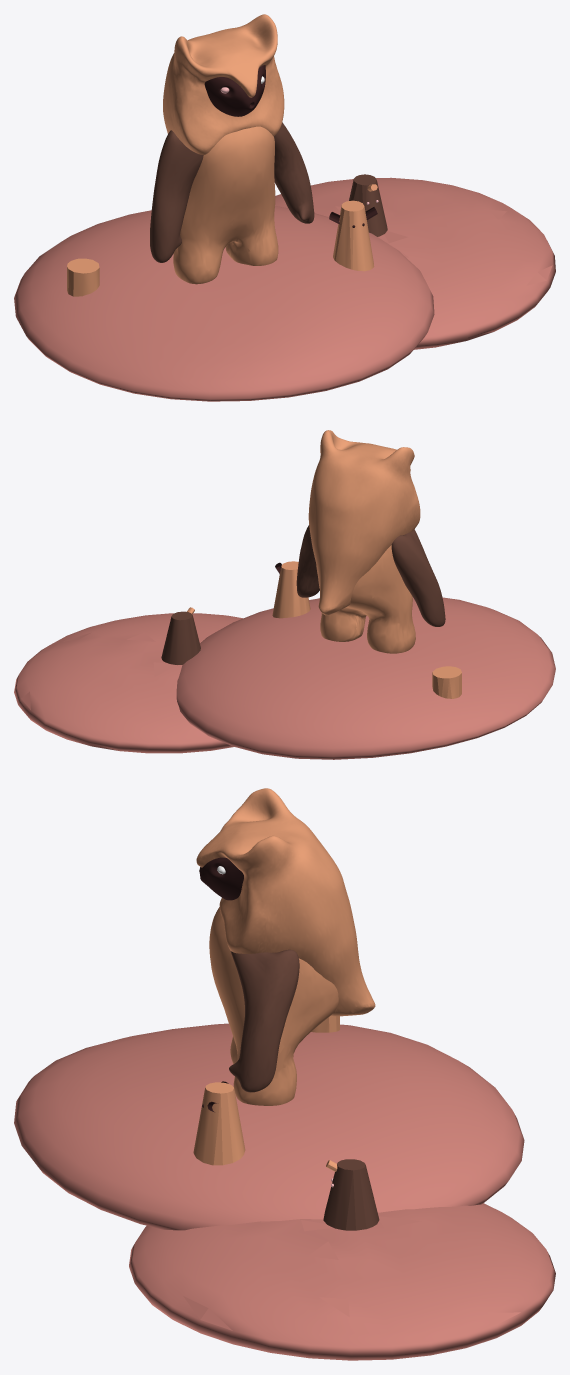
The model's file is asset.glb.
3 renders of one model, top to bottom at view 1: azimuth 30°, elevation 25°; view 2: azimuth 150°, elevation 25°; view 3: azimuth 270°, elevation 25°, orthographic. The views are drawn at different scales.
Visible parts, largest first — view 1: 圓柱體; view 2: 圓柱體; view 3: 圓柱體.
Boxes of the visible parts, <box> form: 圓柱體: <box>14,14,555,401</box>; 圓柱體: <box>14,430,555,759</box>; 圓柱體: <box>14,788,555,1360</box>.
Bounding box in the file's own units: 0.867 × 0.5 × 0.676.
